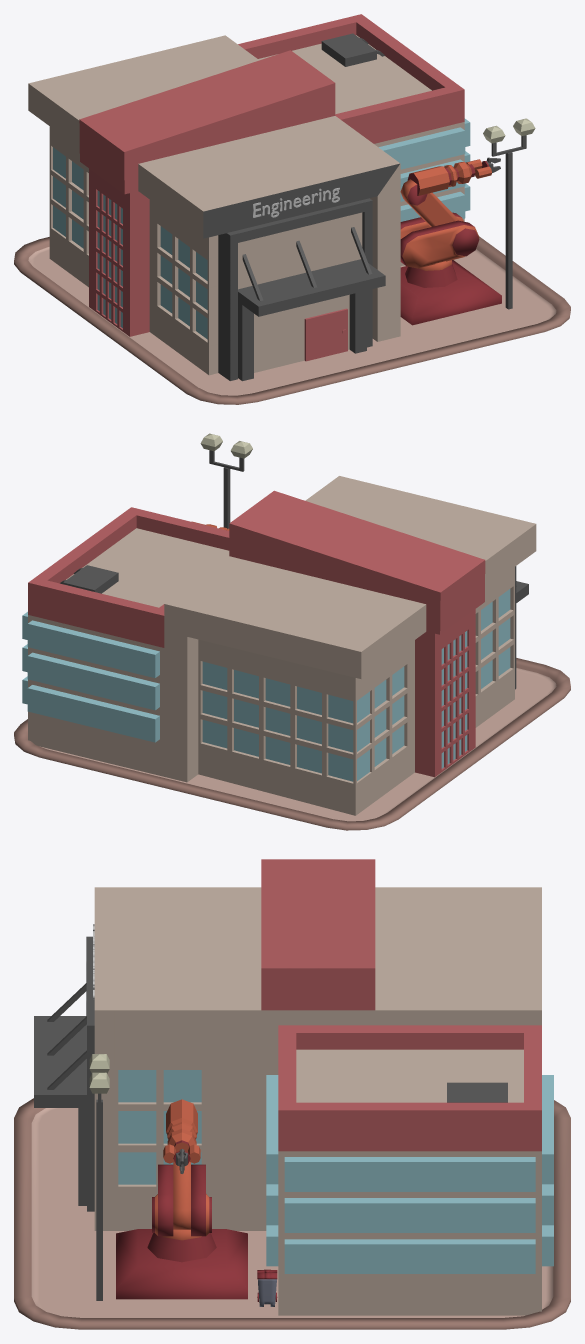
The model's file is Engenharia_Level_02.fbx.
3 views of the same model, one above another, from view 1: azimuth 30°, elevation 25°; view 2: azimuth 150°, elevation 25°; view 3: azimuth 270°, elevation 25° (orthographic). The views are drawn at different scales.
Parts seen in each view (by area): view 1: Plane.005; view 2: Plane.005; view 3: Plane.005.
Part boxes in pixels (x1,y1,x2,y2): Plane.005: (14,14,570,404); Plane.005: (14,433,570,830); Plane.005: (14,859,570,1329).
Bounding box in the file's own units: 2000 × 1043 × 2000.
